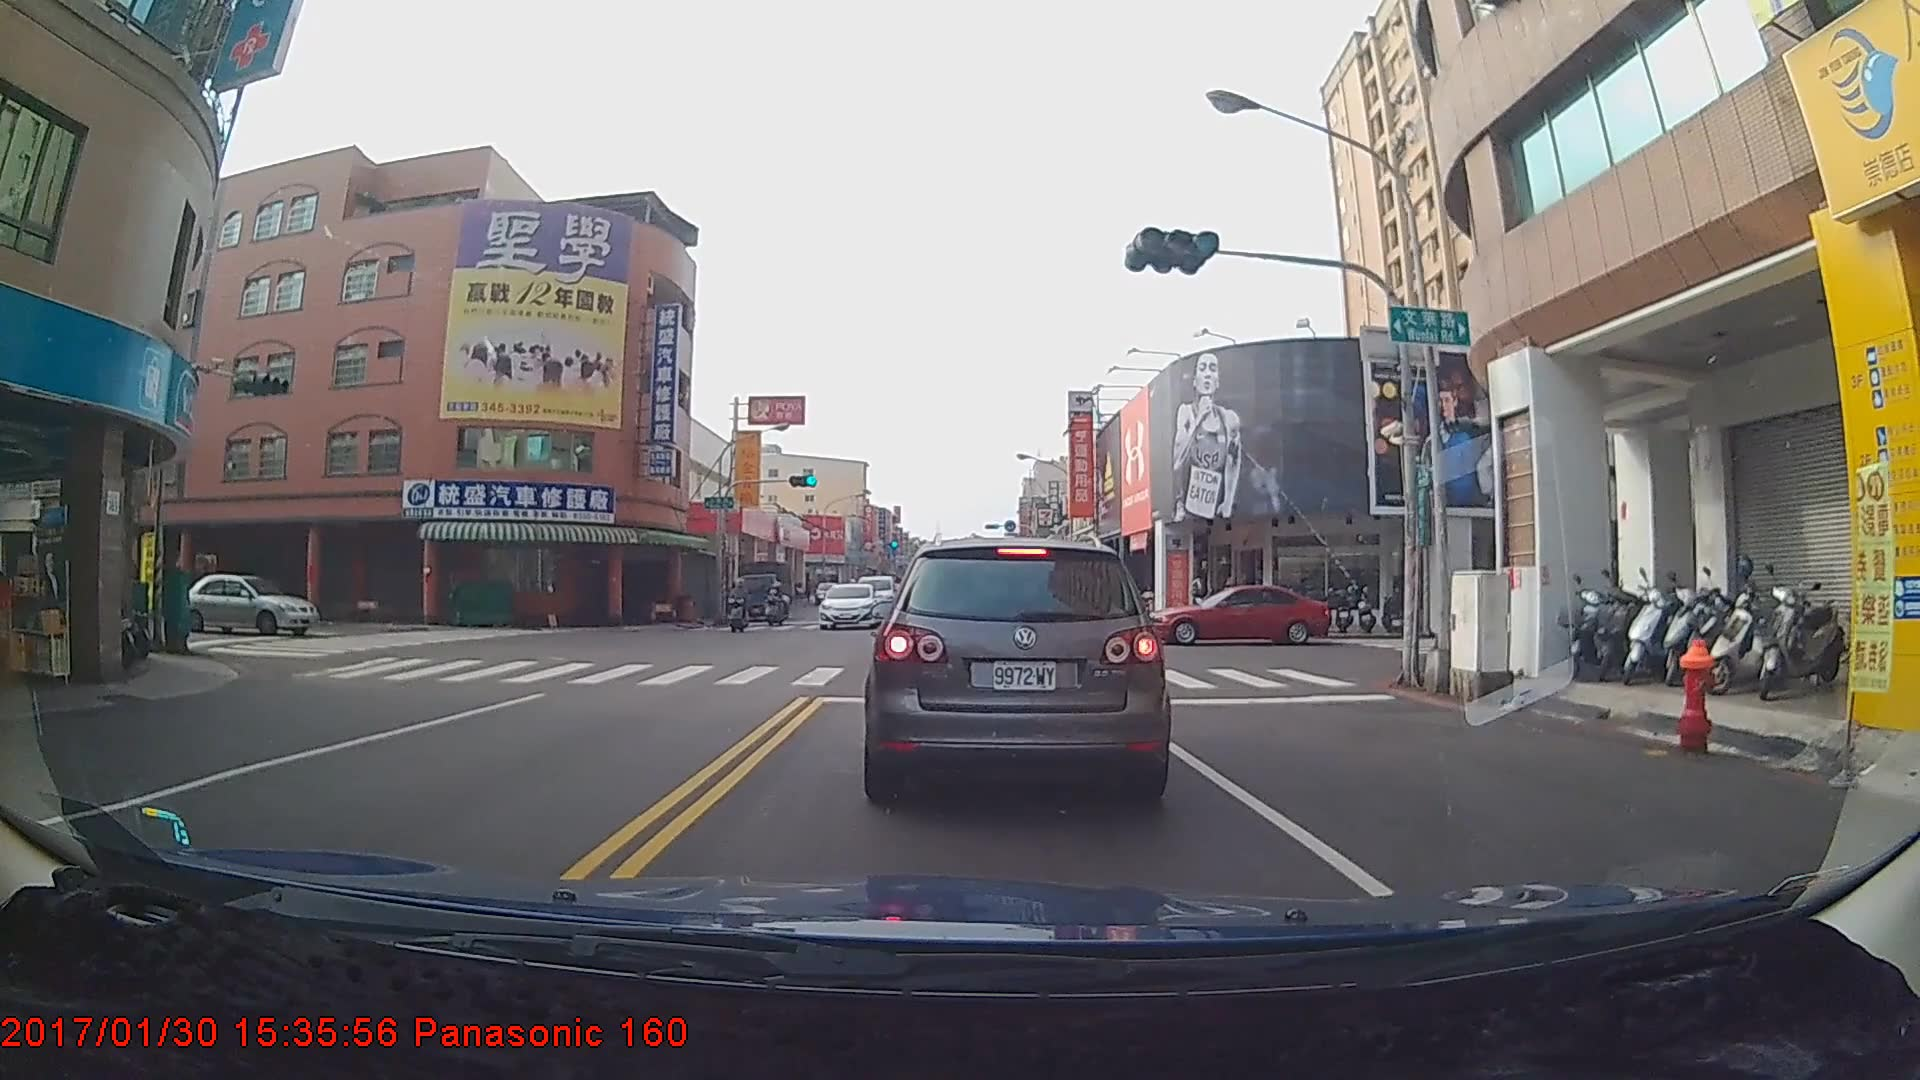rider: (723, 575, 751, 636), (761, 576, 794, 624)
vehicle: (871, 528, 1166, 799), (1146, 579, 1332, 646), (168, 569, 319, 635), (735, 556, 793, 621), (815, 580, 879, 629)
